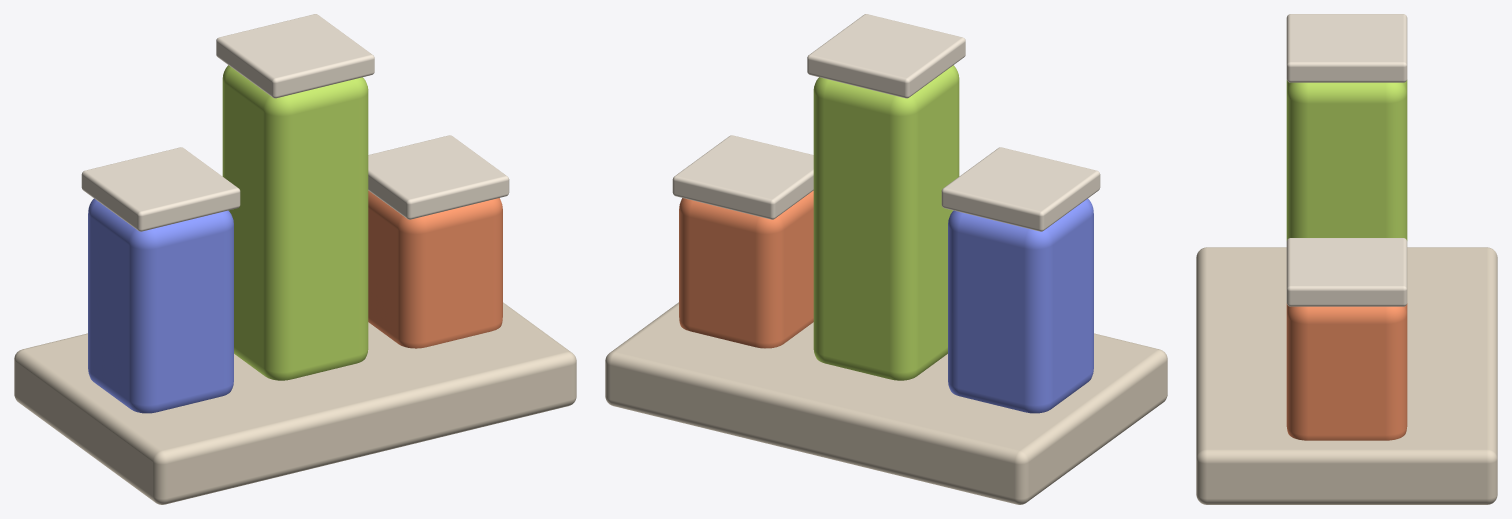
File: analytics.glb
3 views of the same model, side by side, from view 1: azimuth 30°, elevation 25°; view 2: azimuth 150°, elevation 25°; view 3: azimuth 270°, elevation 25° (orthographic).
Bounding box in the file's own units: 1.35 × 1.09 × 0.8182.
